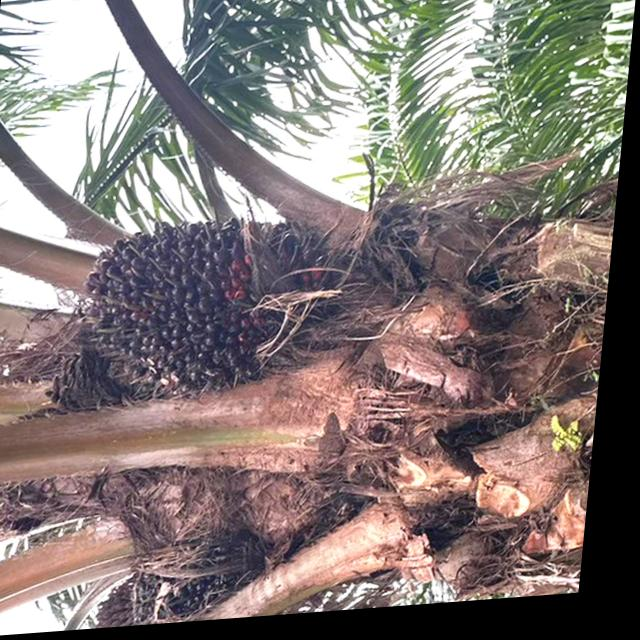ripe: (61, 186, 346, 428)
